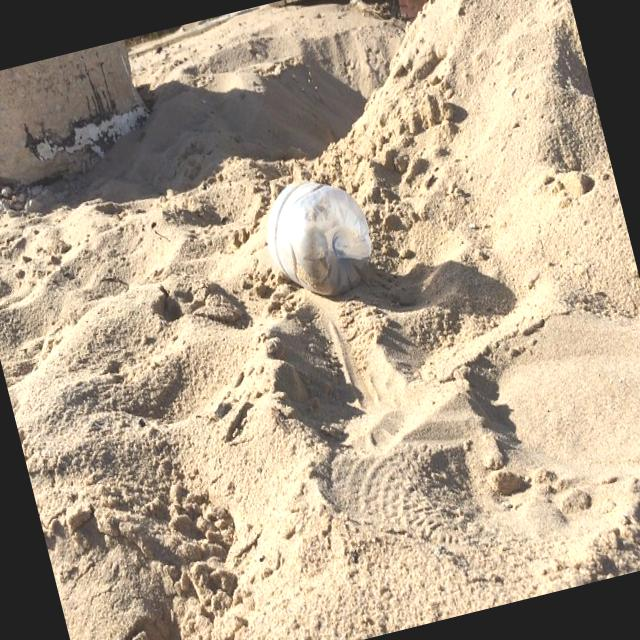Recycle: (248, 154, 390, 310)
